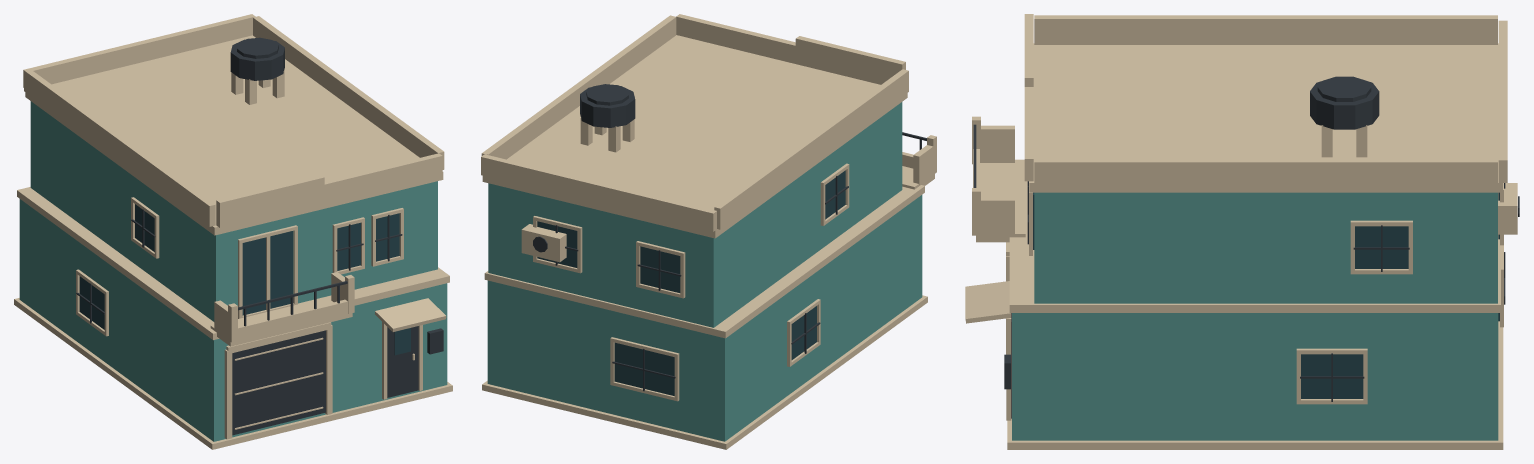
The model's file is yun_caribbean_house_02_lod1.glb.
3 views of the same model, side by side, from view 1: azimuth 30°, elevation 25°; view 2: azimuth 150°, elevation 25°; view 3: azimuth 270°, elevation 25° (orthographic). The views are drawn at different scales.
Parts seen in each view (by area): view 1: BATCH_DetailRoof_LOD1, BATCH_WallPlaster_LOD1, BATCH_DarkMetal_LOD1, BATCH_WindowGlass_LOD1; view 2: BATCH_DetailRoof_LOD1, BATCH_WallPlaster_LOD1, BATCH_WindowGlass_LOD1, BATCH_DarkMetal_LOD1; view 3: BATCH_DetailRoof_LOD1, BATCH_WallPlaster_LOD1, BATCH_WindowGlass_LOD1, BATCH_DarkMetal_LOD1.
Part boxes in pixels (<box>): BATCH_DetailRoof_LOD1: <box>14,14,452,449</box>; BATCH_WallPlaster_LOD1: <box>19,101,447,441</box>; BATCH_DarkMetal_LOD1: <box>76,37,443,435</box>; BATCH_WindowGlass_LOD1: <box>79,204,410,355</box>; BATCH_DetailRoof_LOD1: <box>481,14,936,449</box>; BATCH_WallPlaster_LOD1: <box>487,102,922,441</box>; BATCH_WindowGlass_LOD1: <box>537,170,845,395</box>; BATCH_DarkMetal_LOD1: <box>533,84,926,391</box>; BATCH_DetailRoof_LOD1: <box>965,14,1517,449</box>; BATCH_WallPlaster_LOD1: <box>1012,192,1498,440</box>; BATCH_WindowGlass_LOD1: <box>1033,192,1499,398</box>; BATCH_DarkMetal_LOD1: <box>973,76,1519,418</box>.
Size of what is drawn, in the model's own units: 3.91 by 3.99 by 6.14.
